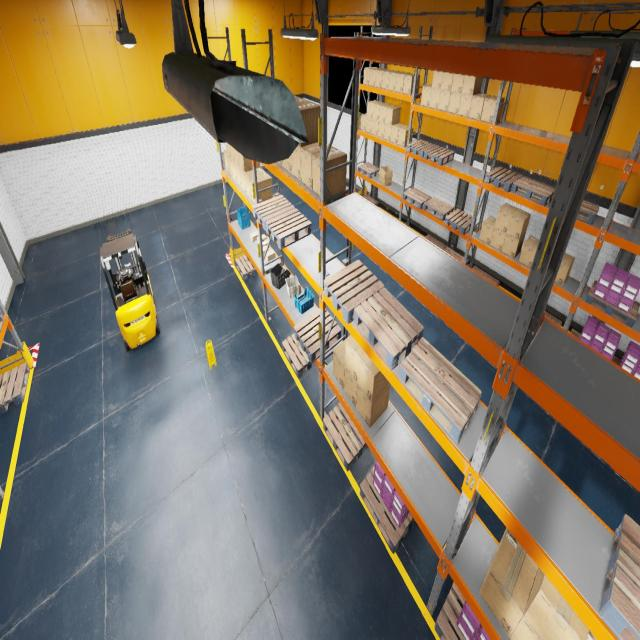box: (479, 528, 539, 638), (524, 568, 589, 640), (510, 568, 541, 639), (312, 147, 347, 198), (358, 352, 390, 403), (301, 142, 333, 190), (356, 383, 390, 428), (298, 102, 320, 147), (332, 335, 350, 389), (345, 336, 364, 384), (506, 208, 531, 240), (250, 172, 273, 204), (494, 203, 518, 233), (244, 167, 266, 199), (554, 253, 574, 286), (481, 95, 504, 123), (519, 236, 539, 268), (469, 93, 491, 120), (502, 234, 525, 258), (344, 366, 357, 407), (479, 216, 496, 244), (238, 152, 260, 172), (462, 76, 482, 96), (490, 228, 506, 251), (291, 146, 301, 181), (403, 74, 420, 94), (395, 72, 412, 92), (390, 124, 406, 144), (388, 71, 404, 91), (398, 126, 413, 147), (458, 94, 472, 116), (381, 70, 397, 89), (375, 68, 390, 88), (448, 92, 461, 114), (438, 90, 451, 112), (385, 106, 400, 125), (378, 166, 392, 186), (372, 102, 387, 120), (421, 84, 432, 107), (379, 104, 393, 122), (429, 88, 441, 109), (367, 100, 380, 119), (369, 67, 382, 86), (451, 74, 464, 93), (363, 67, 376, 85), (441, 72, 453, 91), (432, 70, 443, 89), (235, 163, 242, 188), (283, 155, 291, 174), (240, 168, 246, 193), (227, 155, 233, 178), (232, 160, 238, 182), (384, 123, 391, 141), (266, 249, 276, 261), (224, 150, 229, 174), (234, 149, 240, 167), (372, 119, 378, 136), (378, 122, 384, 138), (366, 118, 372, 134), (587, 630, 597, 639), (230, 144, 235, 162), (361, 113, 366, 131), (250, 231, 258, 242), (262, 236, 269, 248), (296, 98, 310, 104), (257, 234, 266, 243), (226, 143, 231, 158), (263, 245, 268, 257), (277, 160, 283, 167), (294, 95, 300, 98)
forklift: (100, 228, 160, 352)
pallets: (398, 337, 482, 444), (354, 287, 424, 370), (598, 514, 640, 640), (360, 467, 414, 553), (324, 260, 384, 324), (323, 402, 368, 471), (294, 308, 341, 363), (585, 280, 640, 327), (434, 582, 476, 639), (266, 208, 312, 249), (0, 363, 30, 414), (252, 194, 294, 230), (511, 176, 555, 206), (282, 333, 311, 378), (570, 329, 612, 360), (484, 167, 523, 192), (444, 208, 476, 234), (423, 197, 454, 220), (403, 187, 431, 209), (423, 146, 455, 165), (407, 139, 436, 158), (577, 200, 599, 225), (472, 266, 499, 286), (235, 254, 255, 280), (444, 246, 468, 265), (424, 234, 446, 250), (358, 162, 379, 178), (544, 310, 562, 326), (363, 194, 379, 207), (611, 356, 621, 366), (0, 310, 4, 333)
